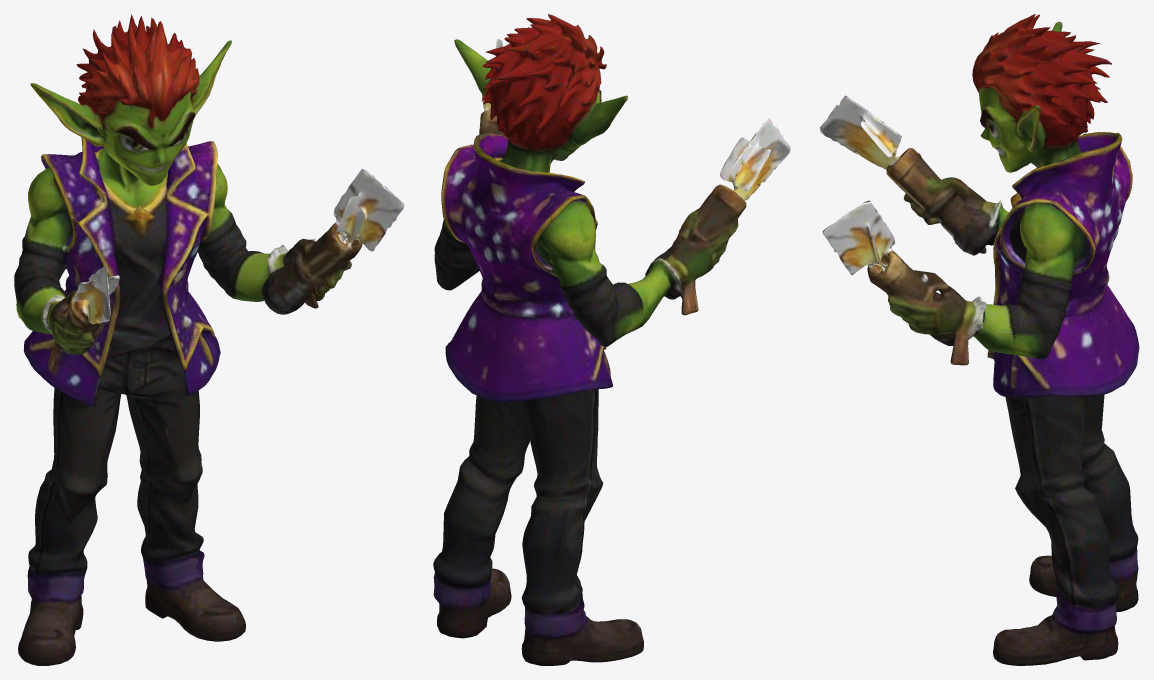
File: grunk_fanatic.glb
3 renders of one model, left to right at view 1: azimuth 30°, elevation 25°; view 2: azimuth 150°, elevation 25°; view 3: azimuth 270°, elevation 25°, orthographic. The views are drawn at different scales.
Size of the model in its own units: 0.485 by 0.9629 by 0.46.
Materials: 1 (1 with a texture image).
